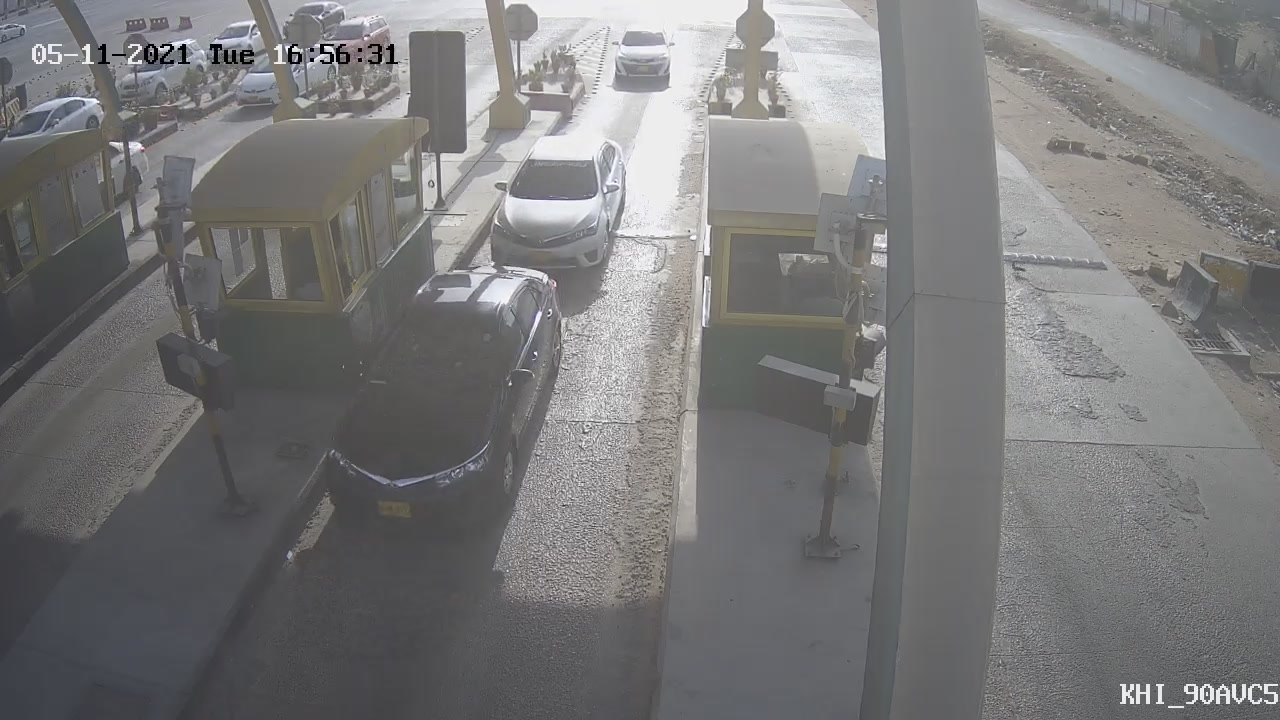F1: (299, 252, 590, 548), (474, 116, 648, 299)
